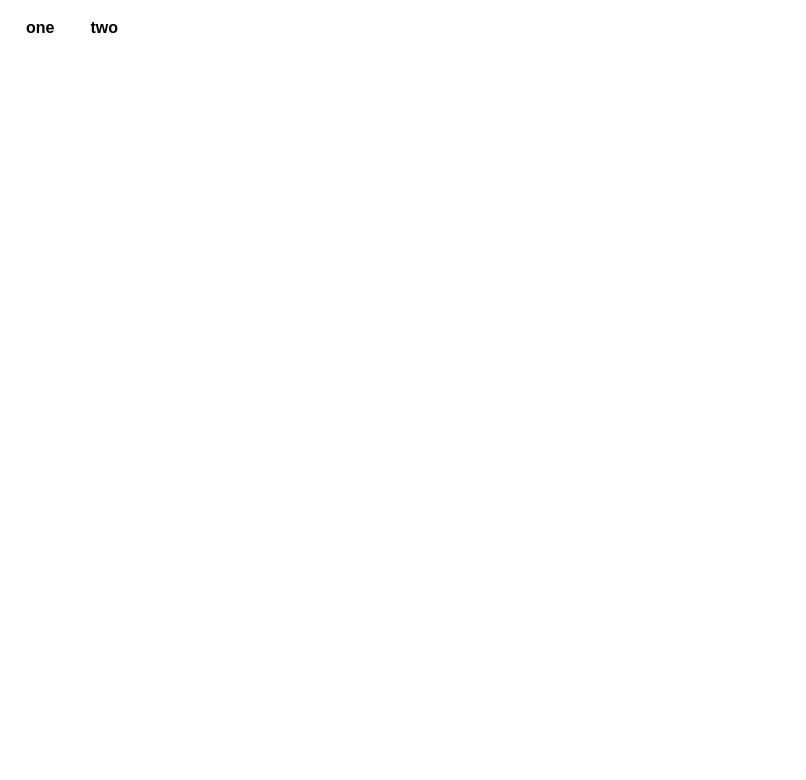
Toast › shows one toast at a time, runs the action and auto-dismisses
Later steps or results of the test are not shown.
Click the button "one": (40, 28) [8,8,72,48]
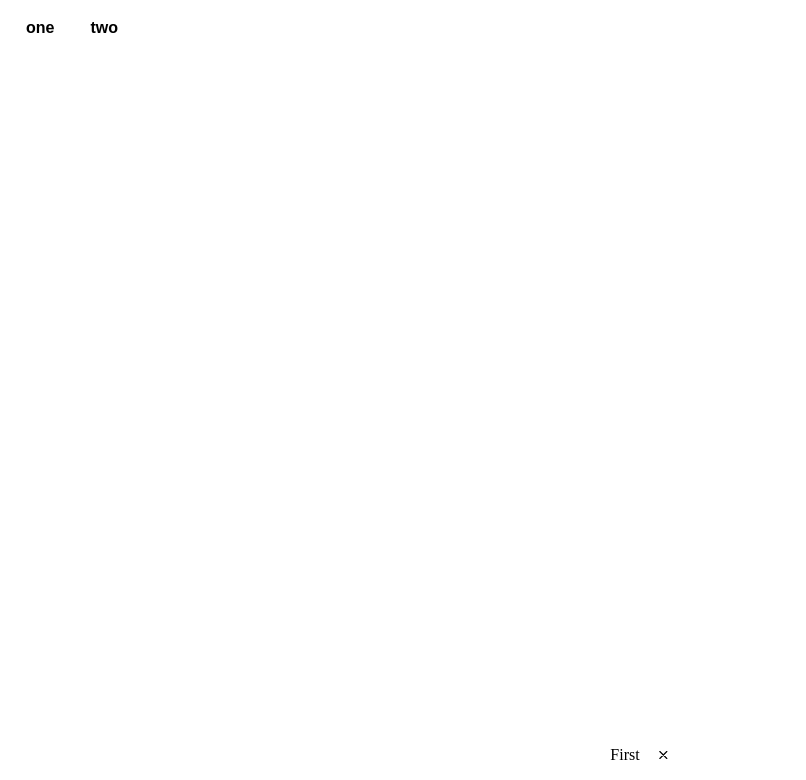
Now the message reads "First", box [610,746,640,763]
Click the button "two": (104, 28) [72,8,136,48]
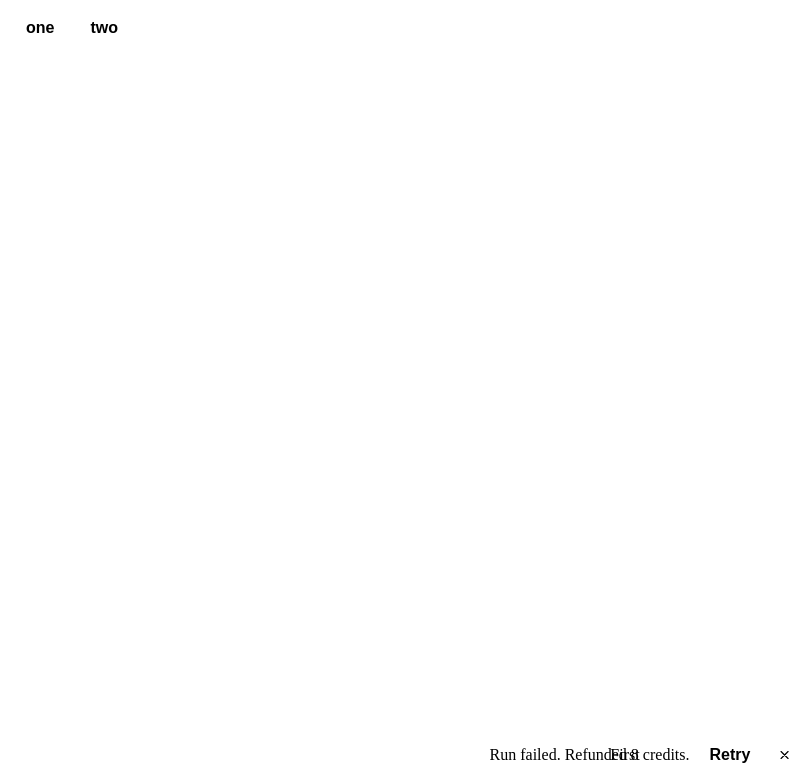
Now the message no longer shows "First"
